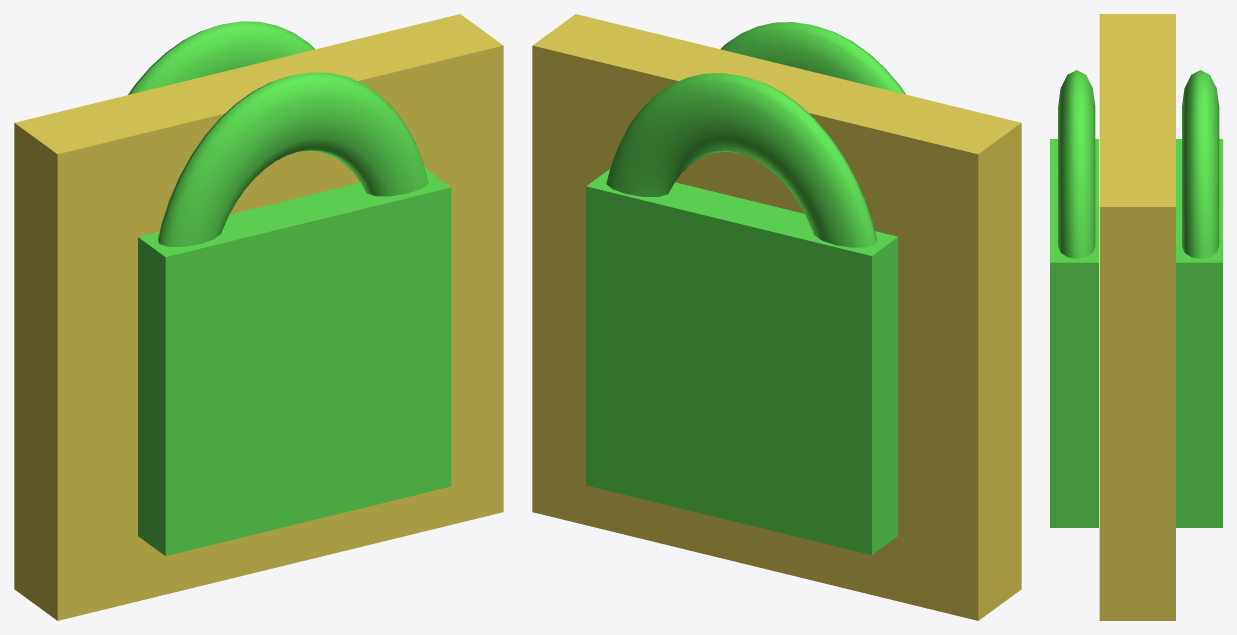
The model's file is order.glb.
3 renders of one model, left to right at view 1: azimuth 30°, elevation 25°; view 2: azimuth 150°, elevation 25°; view 3: azimuth 270°, elevation 25°, orthographic. The views are drawn at different scales.
Parts seen in each view (by area): view 1: Cube, Cube.001, Torus, Torus.001; view 2: Cube, Cube.002, Torus.001, Torus; view 3: Cube, Cube.001, Cube.002, Torus, Torus.001.
Part boxes in pixels (x1,y1,x2,y2): Cube: [14, 14, 503, 620]; Cube.001: [138, 168, 451, 556]; Torus: [158, 72, 428, 246]; Torus.001: [128, 21, 314, 94]; Cube: [532, 14, 1021, 620]; Cube.002: [586, 169, 898, 554]; Torus.001: [606, 73, 876, 247]; Torus: [720, 22, 905, 94]; Cube: [1099, 14, 1175, 620]; Cube.001: [1050, 139, 1098, 527]; Cube.002: [1176, 139, 1222, 527]; Torus: [1058, 70, 1095, 258]; Torus.001: [1182, 70, 1219, 258].
Size of the model in its own units: 1.49 by 1.6 by 0.5645.
